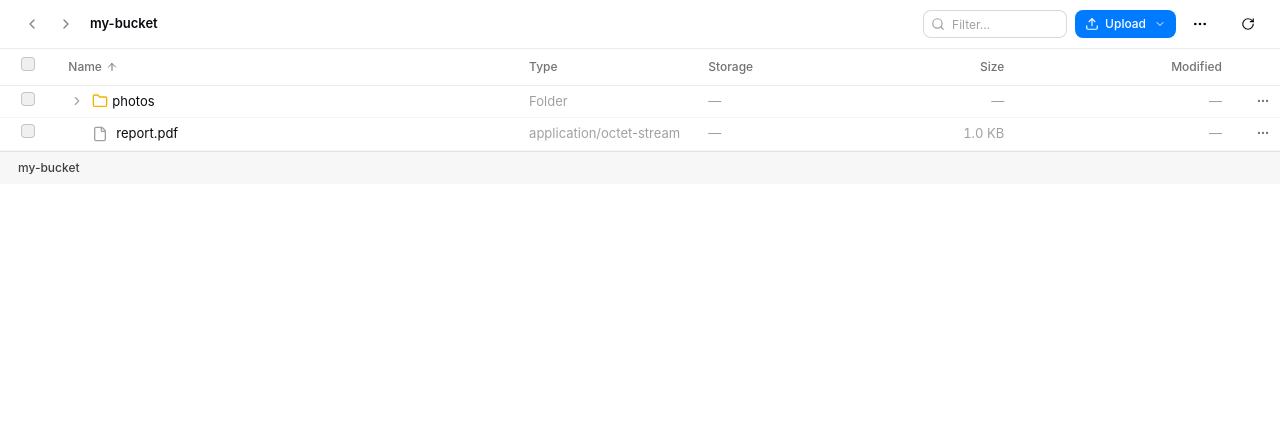
ObjectBrowser context menu › clicking a row Actions button a second time closes its context menu
Expected: the text "report.pdf" is shown, [116,125,178,141]
Step 1. Click the button named "Actions" in the row of "report.pdf" → point(1263, 133), box [1252,122,1274,144]
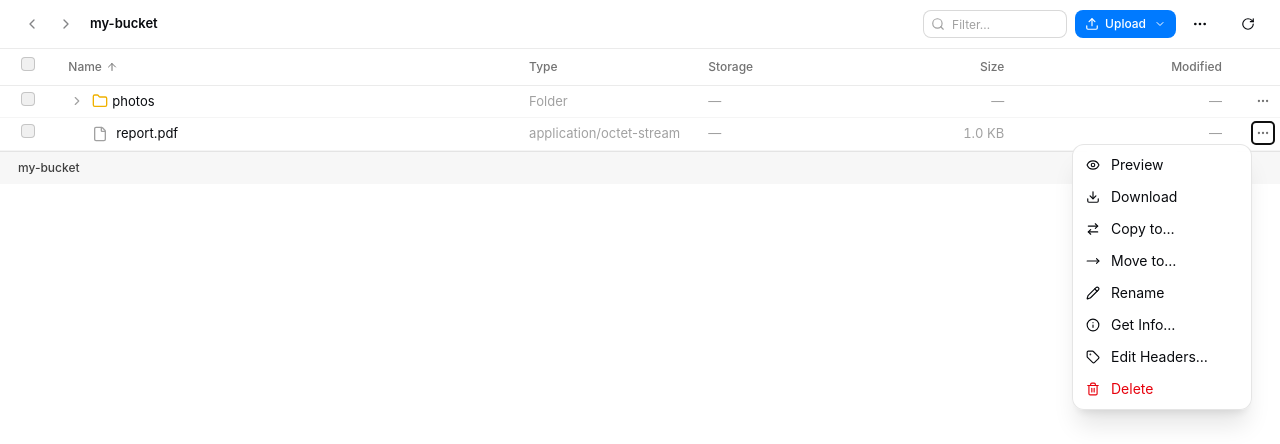
Expected: the text "Delete" is shown, [1111,380,1153,397]
Step 2. Click the button named "Actions" in the row of "report.pdf" → point(1263, 133), box [1252,122,1274,144]
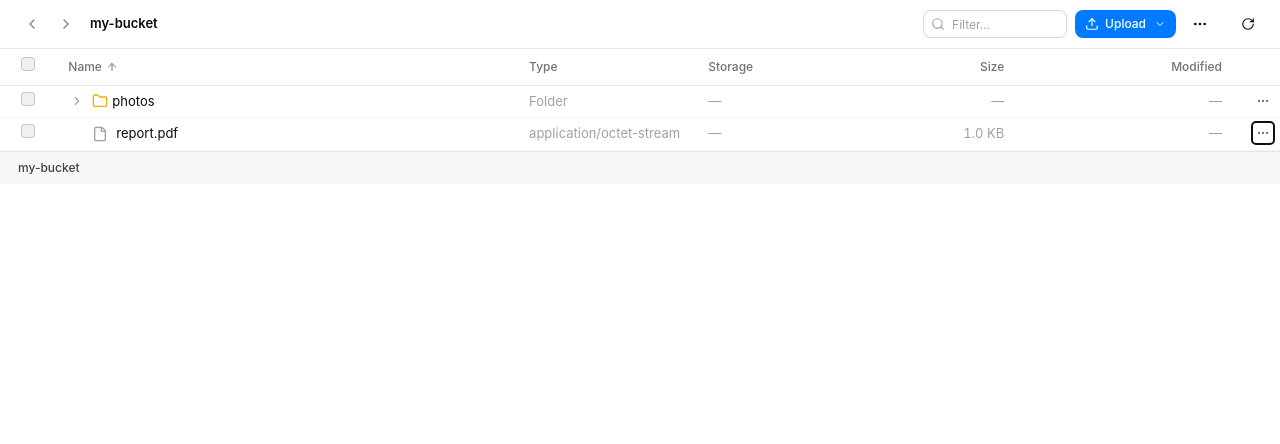
Expected: the button "Rename" is gone
